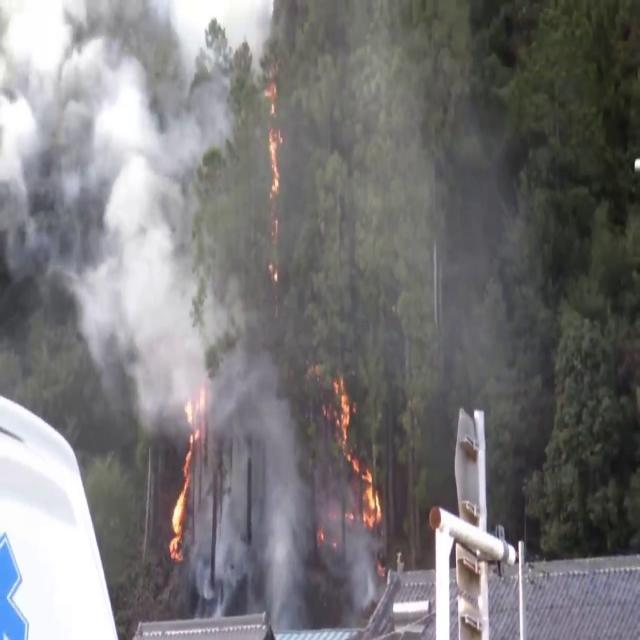Fire: (324, 368, 384, 540), (166, 384, 208, 562)
Smoke: (270, 3, 582, 441), (0, 0, 240, 434), (203, 334, 315, 622)
